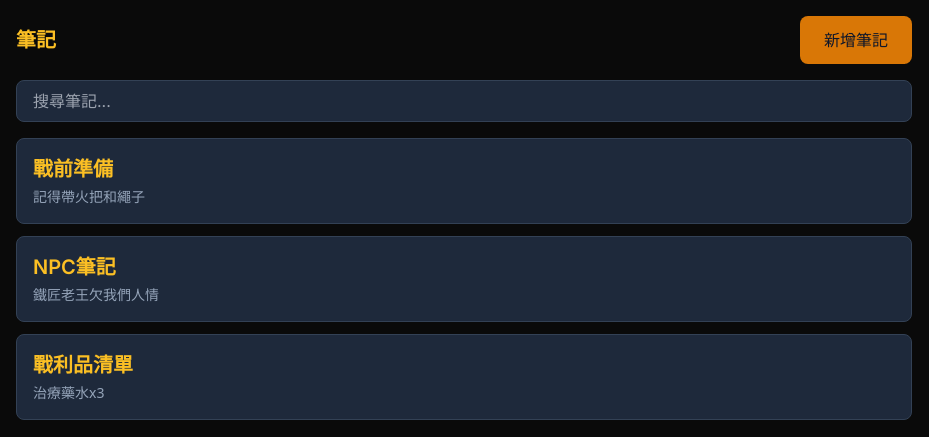
Test: NotesPage - 搜尋列 › 點清空按鈕後搜尋文字清空、清單恢復全部
Type "戰" into the field with placeholder "搜尋筆記..." at [464, 101], box [16,80,912,122]
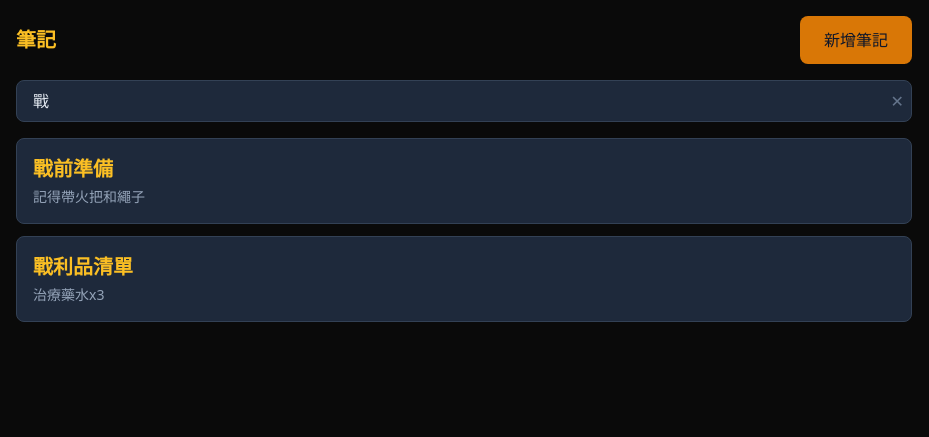
Expected: the button "NPC筆記" is gone
Click the button named "清空搜尋" at [897, 101], box [891,89,904,113]
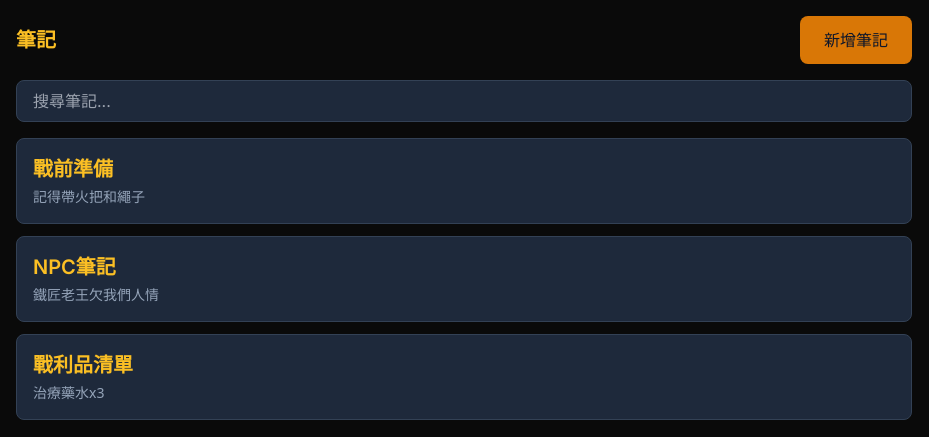
Expected: the text "NPC筆記" is shown, [33,255,116,279]
Expected: the field with placeholder "搜尋筆記..." is empty, [16,80,912,122]
